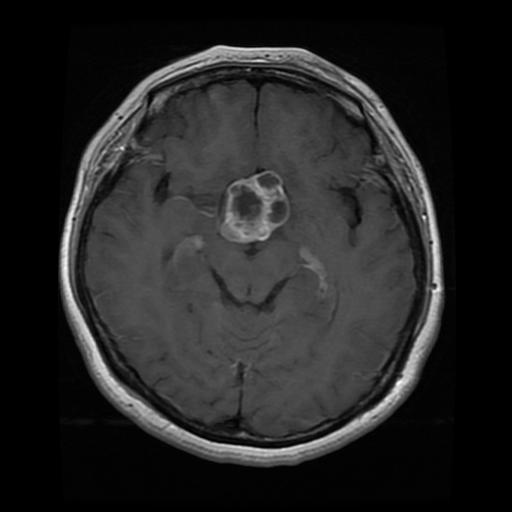Pituirity_tumour: (220, 169, 289, 243)
